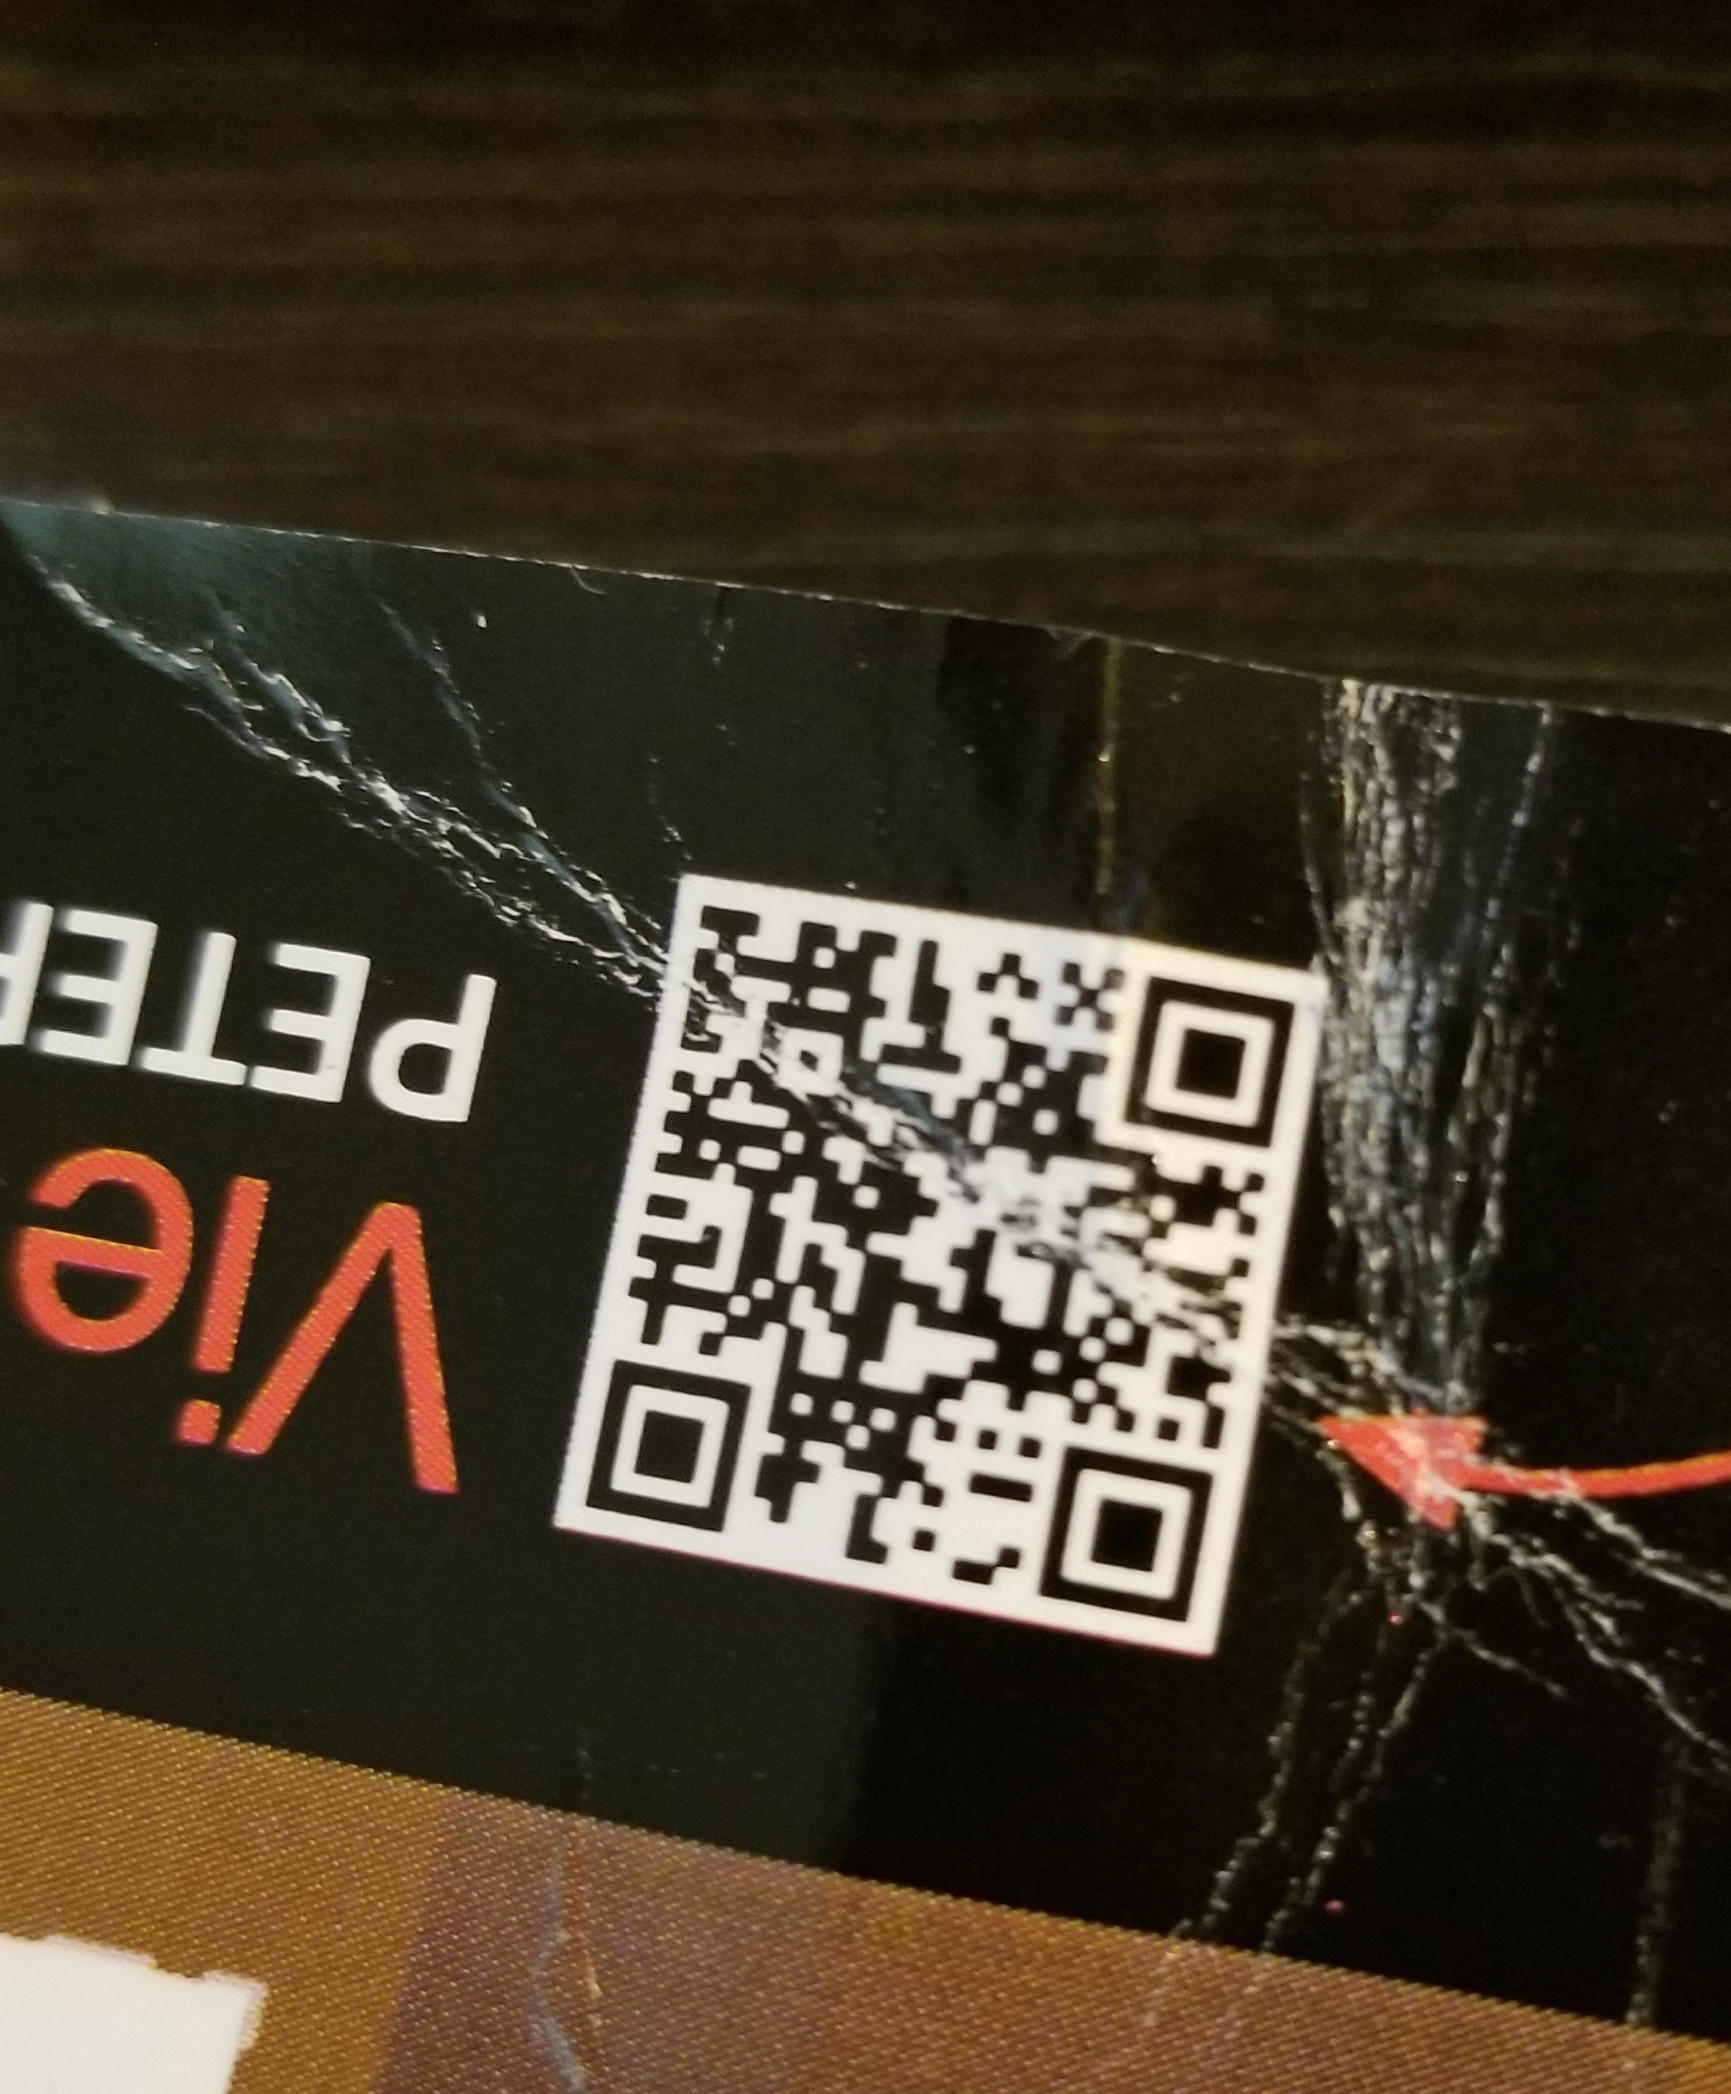QR_CODE: (571, 866, 1327, 1652)
